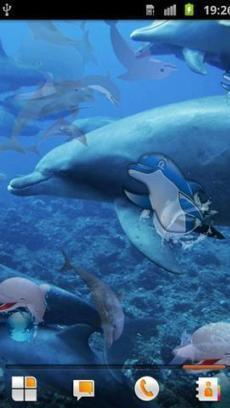fish: (8, 94, 230, 212), (122, 151, 226, 244), (58, 251, 129, 346), (1, 275, 55, 316)
